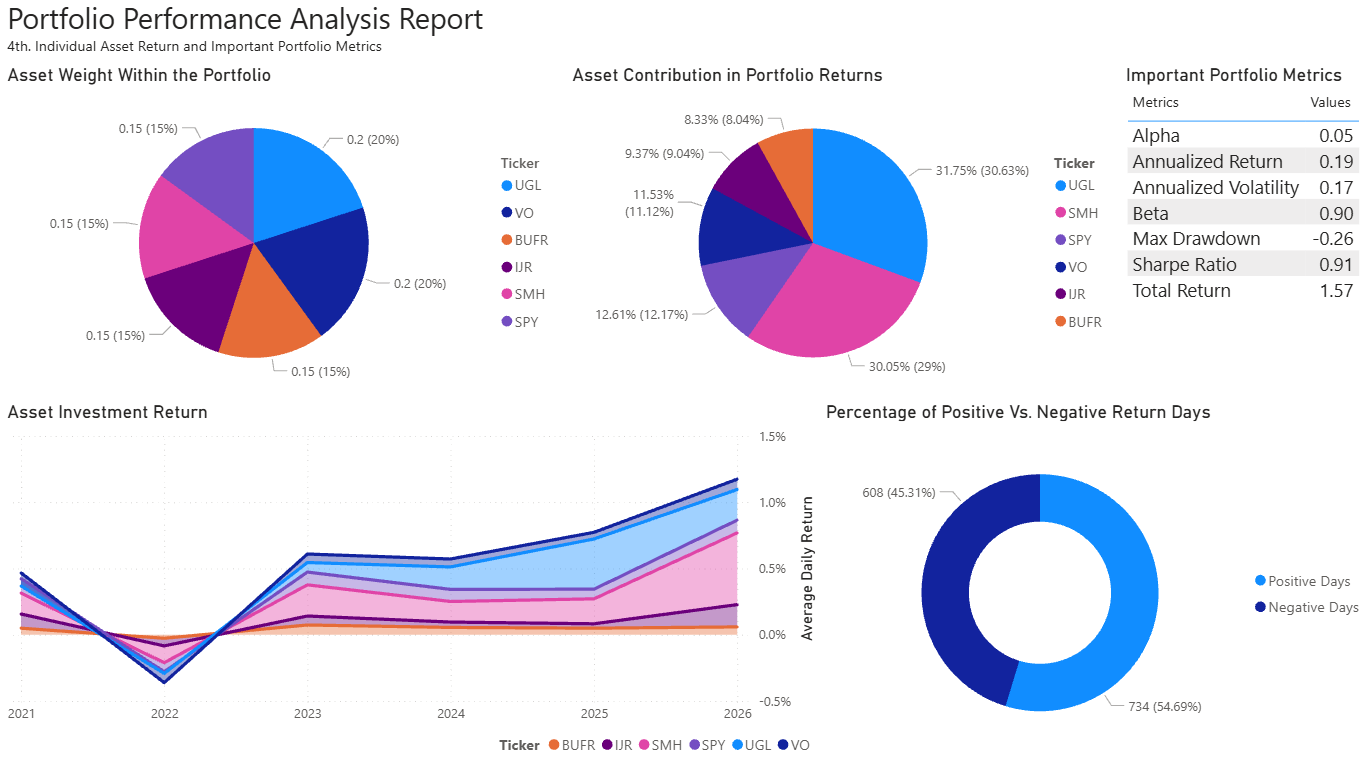

Layout of this report page (visuals, bound fields, positions):
{"tool":"powerbi","page":{"name":"Page 4","canvas":[1280,720],"ordinal":3},"visuals":[{"type":"textbox","box":[0,0,1280.4,66.5],"z":0},{"type":"tableEx","title":"Important Portfolio Metrics","fields":{"Values":["fact_summary_metrics.Metrics","fact_summary_metrics.Values"]},"box":[1043.5,66,236.5,314.6],"z":1000},{"type":"donutChart","title":"Percentage of Positive Vs. Negative Return Days","fields":{"Y":["Sum(analysis_negative_days.postitive_days)","Sum(analysis_negative_days.negative_days)"]},"box":[763.7,380.6,516.3,339.8],"z":2000},{"type":"pieChart","title":"Asset Weight Within the Portfolio","fields":{"Category":["dim_weights.Ticker"],"Y":["Avg(dim_weights.Target_Weight)"]},"box":[0,66,527.1,314.6],"z":3000},{"type":"pieChart","title":"Asset Contribution in Portfolio Returns","fields":{"Category":["dim_weights.Ticker"],"Y":["Avg(fact_contribution_summary.cumulative_contribution)"]},"box":[527.1,66,516.3,314.6],"z":5000},{"type":"stackedAreaChart","title":"Asset Investment Return","fields":{"Category":["fact_returns.Date.Variation.Date Hierarchy.Year","fact_returns.Date.Variation.Date Hierarchy.Quarter","fact_returns.Date.Variation.Date Hierarchy.Month","fact_returns.Date.Variation.Date Hierarchy.Day"],"Series":["dim_weights.Ticker"],"Y":["Avg(fact_returns.Daily_Return)"]},"box":[0,380.6,763.7,339.8],"z":6000}]}

Visuals, with their boxes in screenshot pixels (x1, y1, x2, y2), scaled from the page's 1280x720 canvas onto the 1366x757 screenshot:
textbox: [left=0, top=0, right=1365, bottom=70]
"Important Portfolio Metrics" tableEx: [left=1114, top=69, right=1365, bottom=400]
"Percentage of Positive Vs. Negative Return Days" donutChart: [left=815, top=400, right=1365, bottom=756]
"Asset Weight Within the Portfolio" pieChart: [left=0, top=69, right=563, bottom=400]
"Asset Contribution in Portfolio Returns" pieChart: [left=563, top=69, right=1114, bottom=400]
"Asset Investment Return" stackedAreaChart: [left=0, top=400, right=815, bottom=756]
